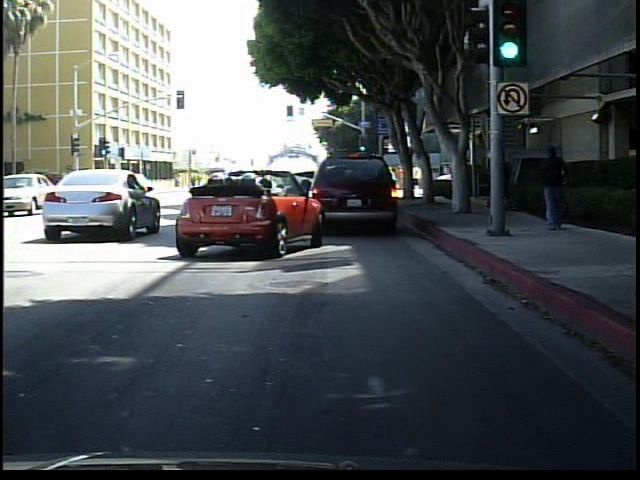person: (537, 139, 571, 233), (485, 145, 513, 216)
